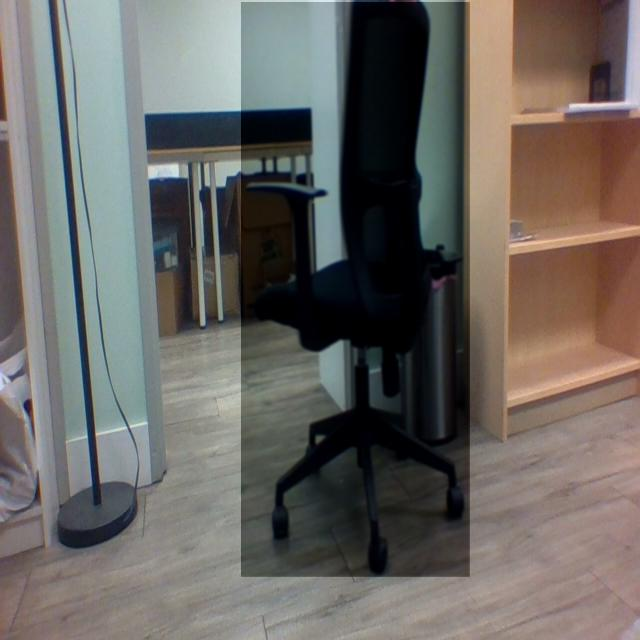black-chair: (241, 2, 471, 578)
